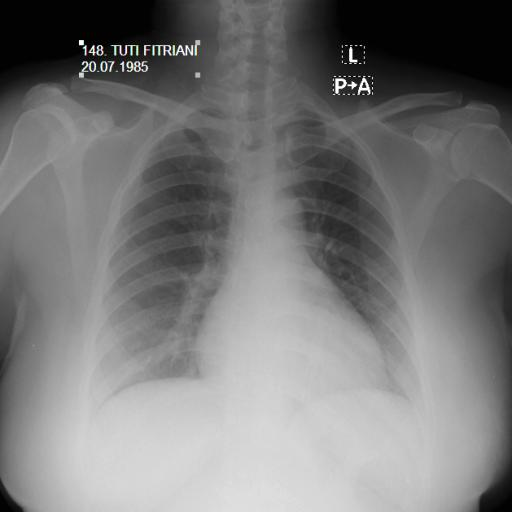kardiomegali: (70, 88, 437, 437)
